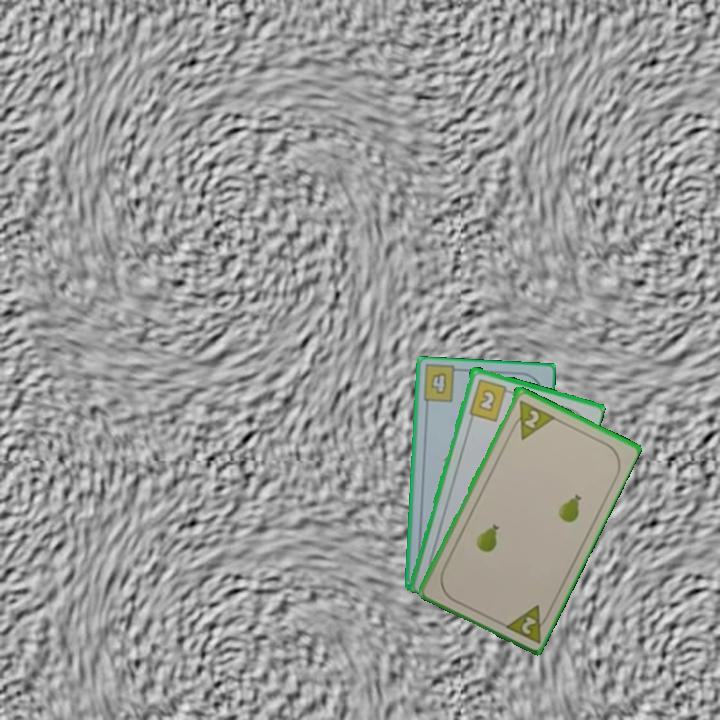2b: (465, 375, 515, 424)
2p: (499, 600, 554, 646), (520, 406, 542, 431)
4b: (427, 369, 449, 396)
